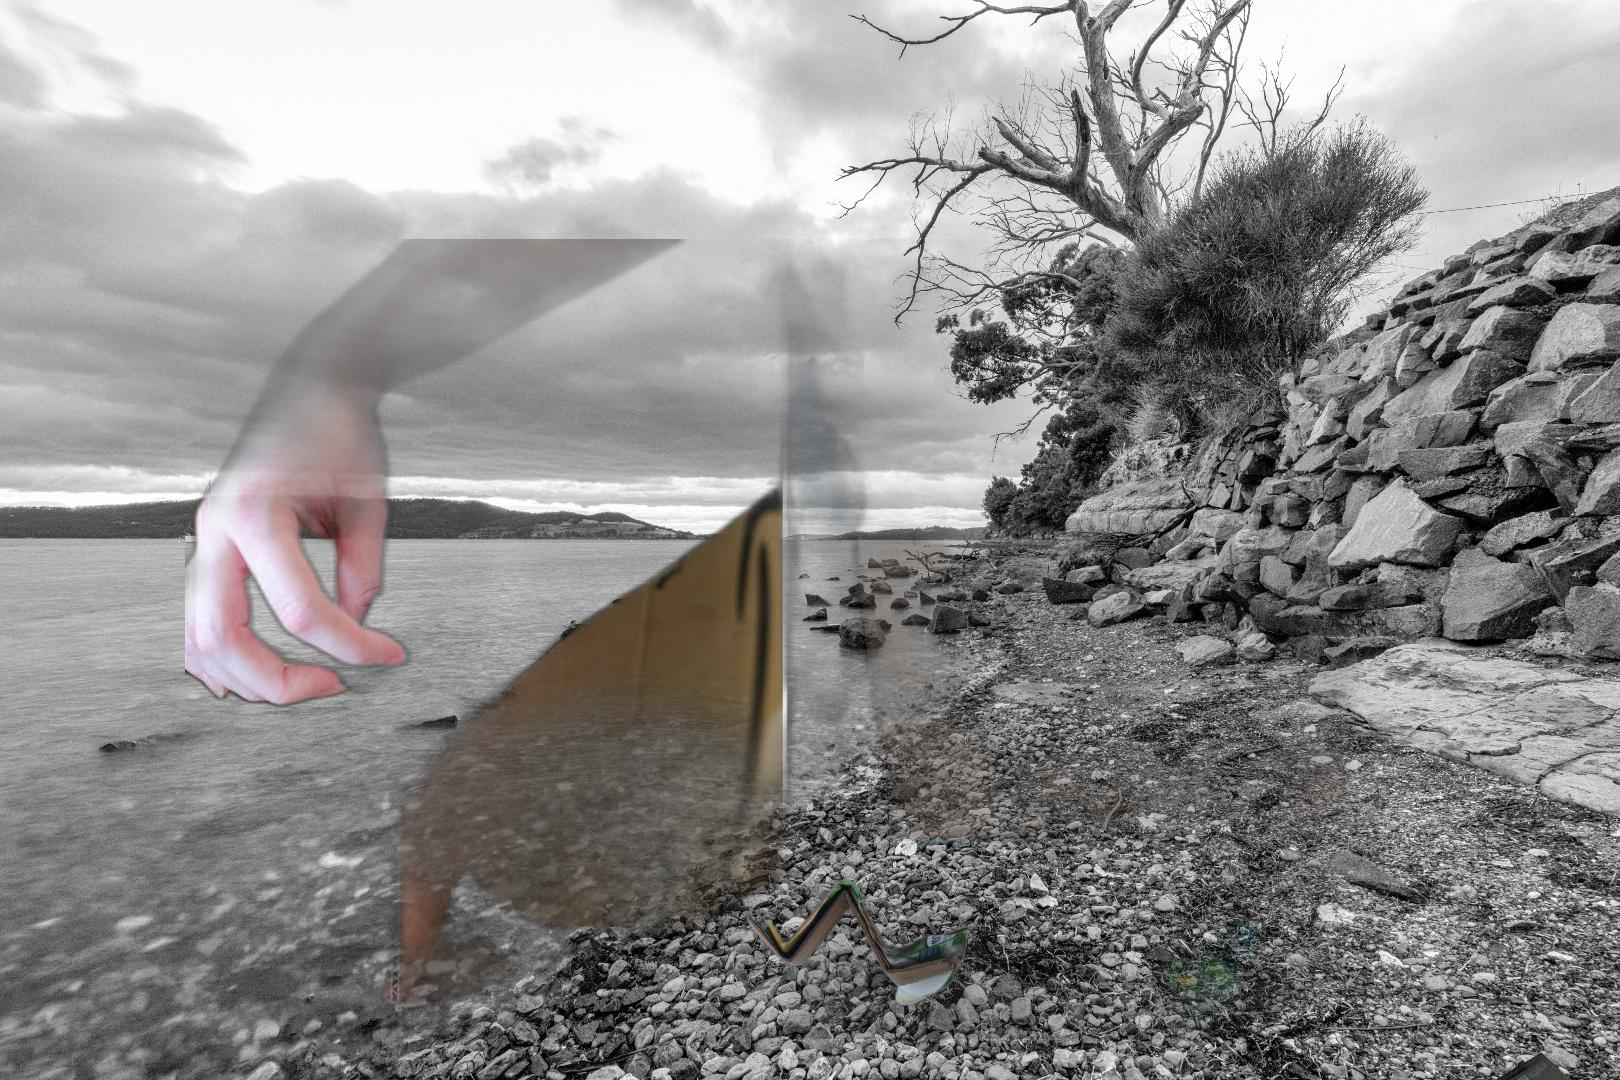battery: (1463, 1050, 1620, 1080)
trashbox-cardboard: (185, 239, 1385, 1039), (728, 877, 977, 1009)
